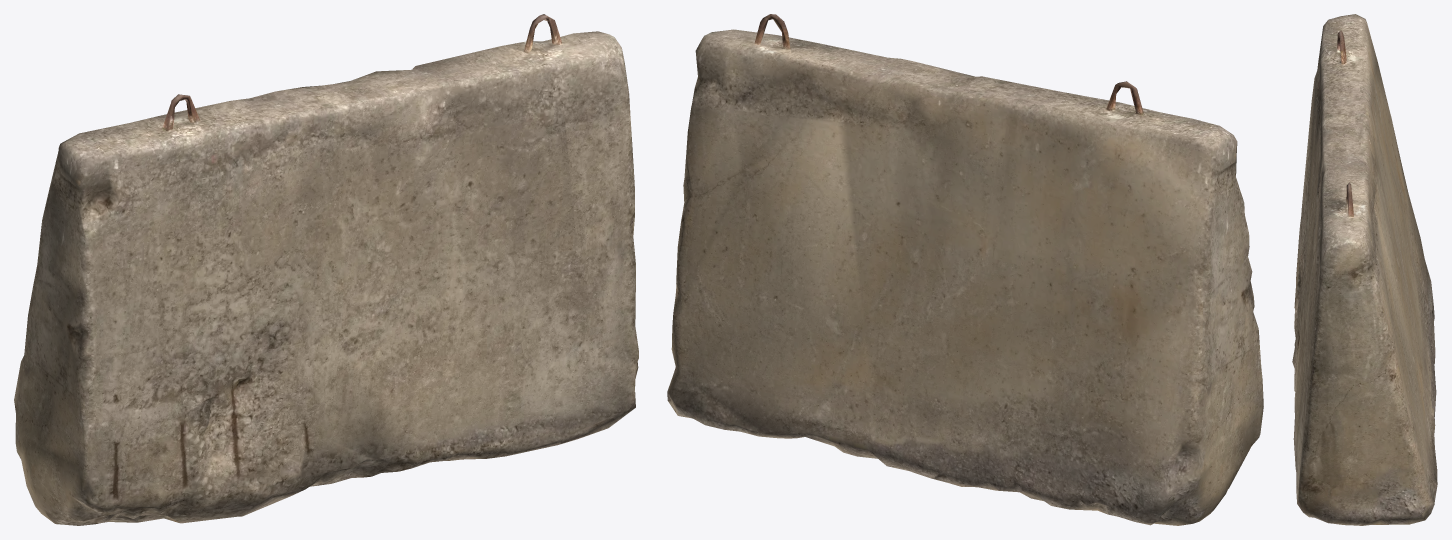
The model's file is concrete_road_barrier_02.glb.
3 views of the same model, side by side, from view 1: azimuth 30°, elevation 25°; view 2: azimuth 150°, elevation 25°; view 3: azimuth 270°, elevation 25° (orthographic). The views are drawn at different scales.
Parts seen in each view (by area): view 1: concrete_road_barrier_02; view 2: concrete_road_barrier_02; view 3: concrete_road_barrier_02.
Boxes of the visible parts, bbox=[...] form: concrete_road_barrier_02: bbox=[14, 14, 638, 525]; concrete_road_barrier_02: bbox=[667, 14, 1263, 525]; concrete_road_barrier_02: bbox=[1292, 14, 1437, 525].
Bounding box in the file's own units: 1.56 × 1.11 × 0.4418.
Materials: 1 (1 with a texture image).
